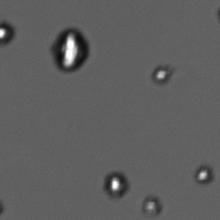Living Cell: (50, 27, 91, 73), (148, 63, 174, 87), (103, 172, 128, 196), (138, 192, 163, 216), (190, 163, 215, 187), (1, 22, 17, 46)
